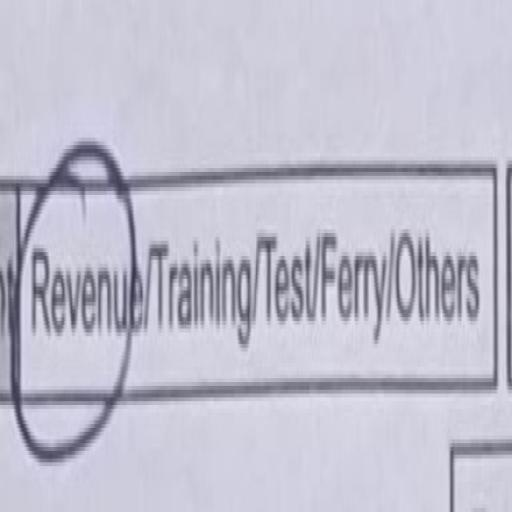check: (12, 105, 146, 490)
